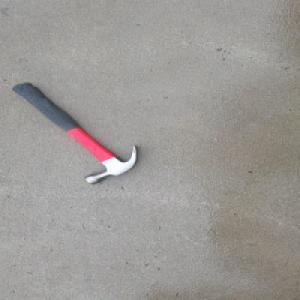Hammer: (11, 81, 141, 185)
